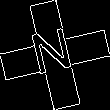N_S: (30, 26, 80, 84)
